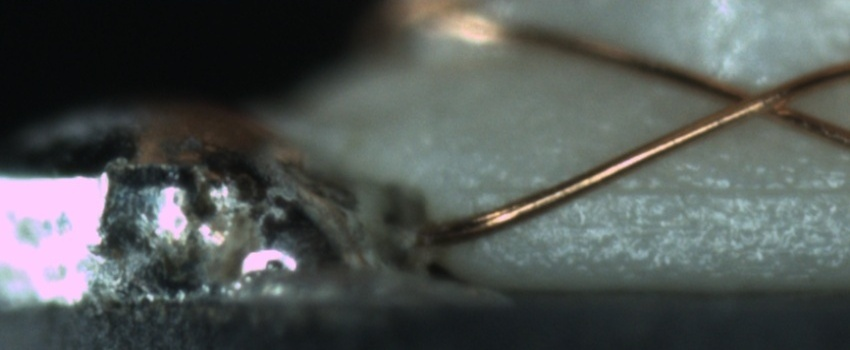CL: (699, 71, 819, 127)
DL: (480, 157, 849, 225)
